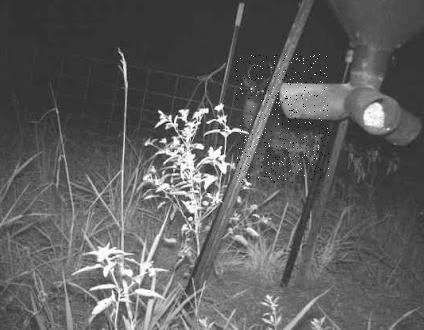Deer: (236, 54, 329, 183)
